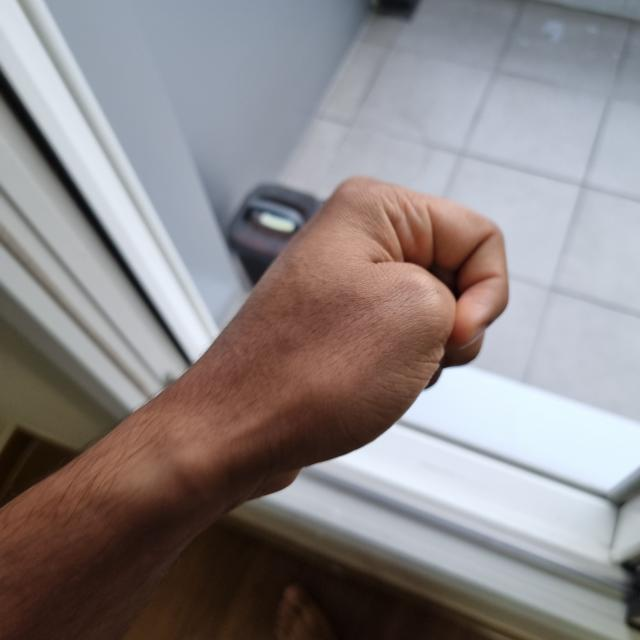Rock: (192, 177, 508, 485)
